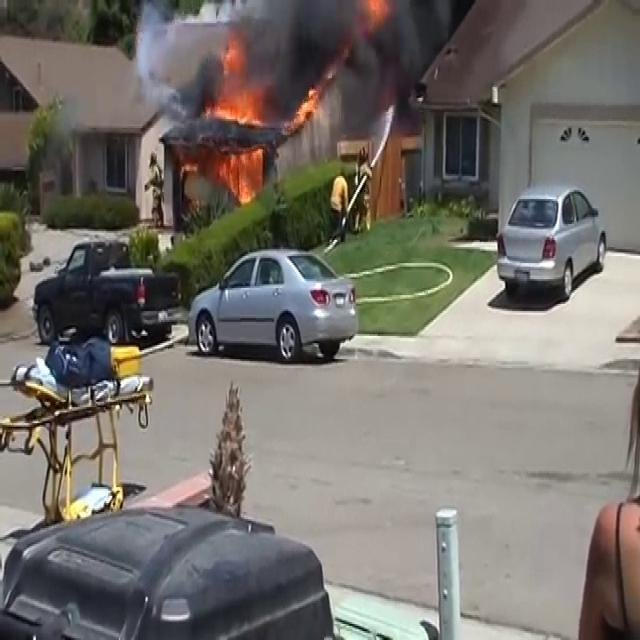Fire: (207, 49, 270, 207)
Smoke: (136, 0, 442, 126), (243, 0, 444, 130)
